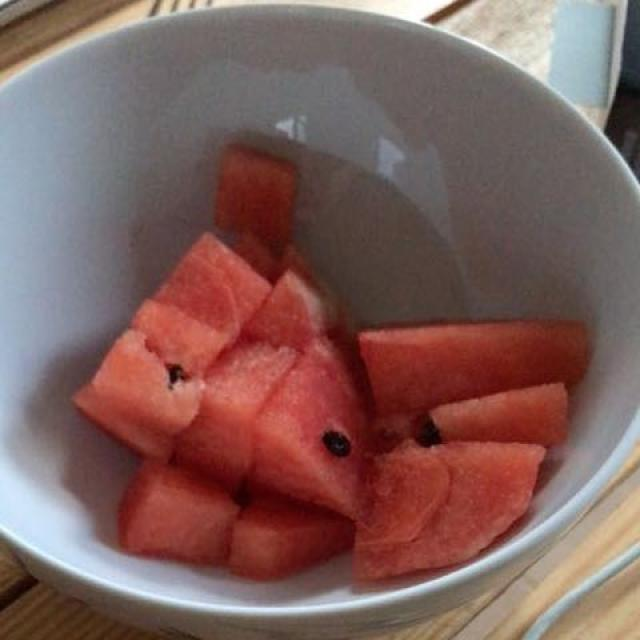watermelon-fresh: (81, 147, 585, 574)
